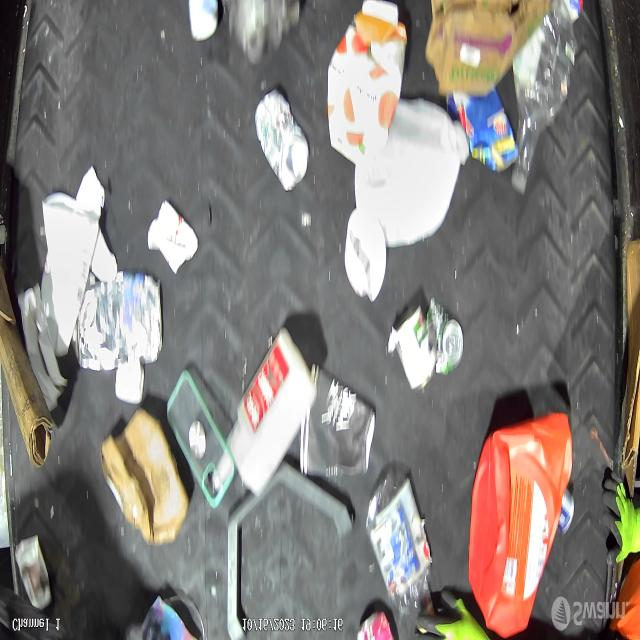can: (74, 273, 164, 372), (252, 88, 310, 194), (388, 299, 438, 392), (15, 537, 52, 611), (436, 298, 464, 374), (557, 489, 576, 537)
milk_jug: (210, 327, 316, 501), (354, 95, 469, 251)
non_white_jug: (468, 414, 572, 640), (329, 0, 409, 167)
plastic_bottle: (508, 5, 578, 192), (366, 470, 436, 632)
